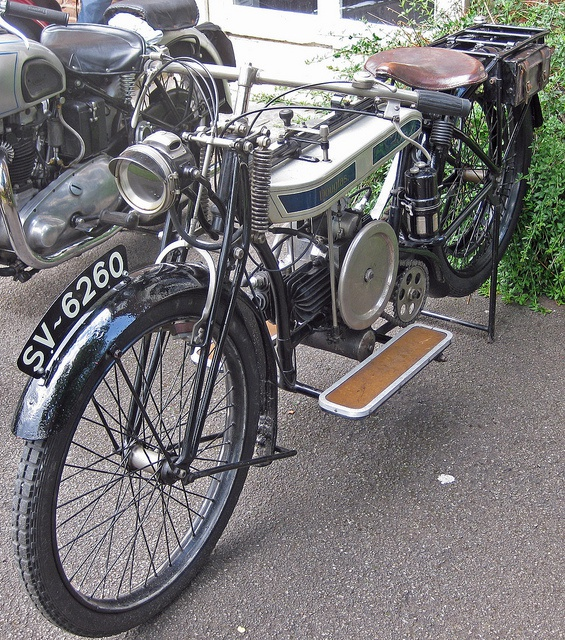non-vehicle: (12, 22, 548, 632), (1, 3, 270, 275)
